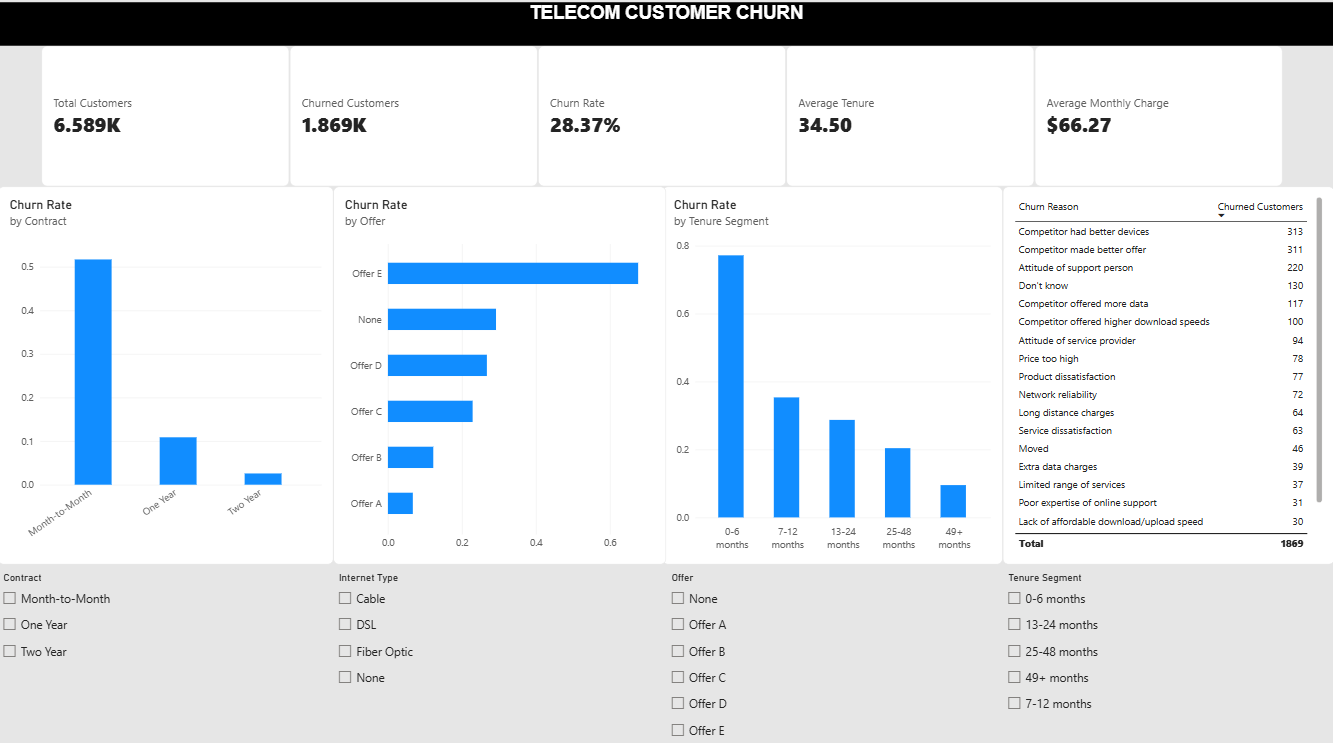

The page's visual inventory and layout, read from the dashboard file:
{"tool":"powerbi","page":{"name":"Telecom customer churn","canvas":[1920,1080],"ordinal":0},"visuals":[{"type":"cardVisual","fields":{"Data":["cleaned_analysis_df.Total Customers"]},"box":[62.5,77.3,356.8,202.3],"z":0},{"type":"cardVisual","fields":{"Data":["cleaned_analysis_df.Churned Customers"]},"box":[419.4,77.3,356.8,202.3],"z":1},{"type":"cardVisual","fields":{"Data":["cleaned_analysis_df.Churn Rate"]},"box":[776.2,77.3,356.8,202.3],"z":2},{"type":"cardVisual","fields":{"Data":["cleaned_analysis_df.Average Tenure"]},"box":[1133.1,77.3,356.8,202.3],"z":3},{"type":"cardVisual","fields":{"Data":["cleaned_analysis_df.Average Monthly Charge"]},"box":[1489.9,77.3,356.8,202.3],"z":4},{"type":"clusteredColumnChart","fields":{"Category":["cleaned_analysis_df.Contract"],"Y":["cleaned_analysis_df.Churn Rate"]},"box":[0,279.6,481.9,542.6],"z":5},{"type":"columnChart","fields":{"Category":["cleaned_analysis_df.Tenure Segment"],"Y":["cleaned_analysis_df.Churn Rate"]},"box":[954.6,279.6,489.3,542.6],"z":6},{"type":"barChart","fields":{"Category":["cleaned_analysis_df.Offer"],"Y":["cleaned_analysis_df.Churn Rate"]},"box":[481.9,279.6,478.2,542.6],"z":7},{"type":"tableEx","fields":{"Values":["cleaned_analysis_df.Churn Reason","cleaned_analysis_df.Churned Customers"]},"box":[1443.9,279.6,476.4,542.6],"z":8},{"type":"textbox","box":[0,14.7,1920.3,62.5],"z":9},{"type":"slicer","fields":{"Values":["cleaned_analysis_df.Contract"]},"box":[0,833,482,247],"z":10},{"type":"slicer","fields":{"Values":["cleaned_analysis_df.Internet Type"]},"box":[482,833,478,247],"z":11},{"type":"slicer","fields":{"Values":["cleaned_analysis_df.Offer"]},"box":[960,833,479,247],"z":12},{"type":"slicer","fields":{"Values":["cleaned_analysis_df.Tenure Segment"]},"box":[1444,833,476,247],"z":13}]}

Visuals, with their boxes in screenshot pixels (x1, y1, x2, y2), scaled from the page's 1920x1080 canvas onto the 1333x743 screenshot:
cardVisual - cleaned_analysis_df.Total Customers: Rect(43, 53, 291, 192)
cardVisual - cleaned_analysis_df.Churned Customers: Rect(291, 53, 539, 192)
cardVisual - cleaned_analysis_df.Churn Rate: Rect(539, 53, 787, 192)
cardVisual - cleaned_analysis_df.Average Tenure: Rect(787, 53, 1034, 192)
cardVisual - cleaned_analysis_df.Average Monthly Charge: Rect(1034, 53, 1282, 192)
clusteredColumnChart - cleaned_analysis_df.Contract x cleaned_analysis_df.Churn Rate: Rect(0, 192, 335, 566)
columnChart - cleaned_analysis_df.Tenure Segment x cleaned_analysis_df.Churn Rate: Rect(663, 192, 1002, 566)
barChart - cleaned_analysis_df.Offer x cleaned_analysis_df.Churn Rate: Rect(335, 192, 667, 566)
tableEx - cleaned_analysis_df.Churn Reason x cleaned_analysis_df.Churned Customers: Rect(1002, 192, 1332, 566)
textbox: Rect(0, 10, 1332, 53)
slicer - cleaned_analysis_df.Contract: Rect(0, 573, 335, 742)
slicer - cleaned_analysis_df.Internet Type: Rect(335, 573, 666, 742)
slicer - cleaned_analysis_df.Offer: Rect(666, 573, 999, 742)
slicer - cleaned_analysis_df.Tenure Segment: Rect(1003, 573, 1332, 742)
